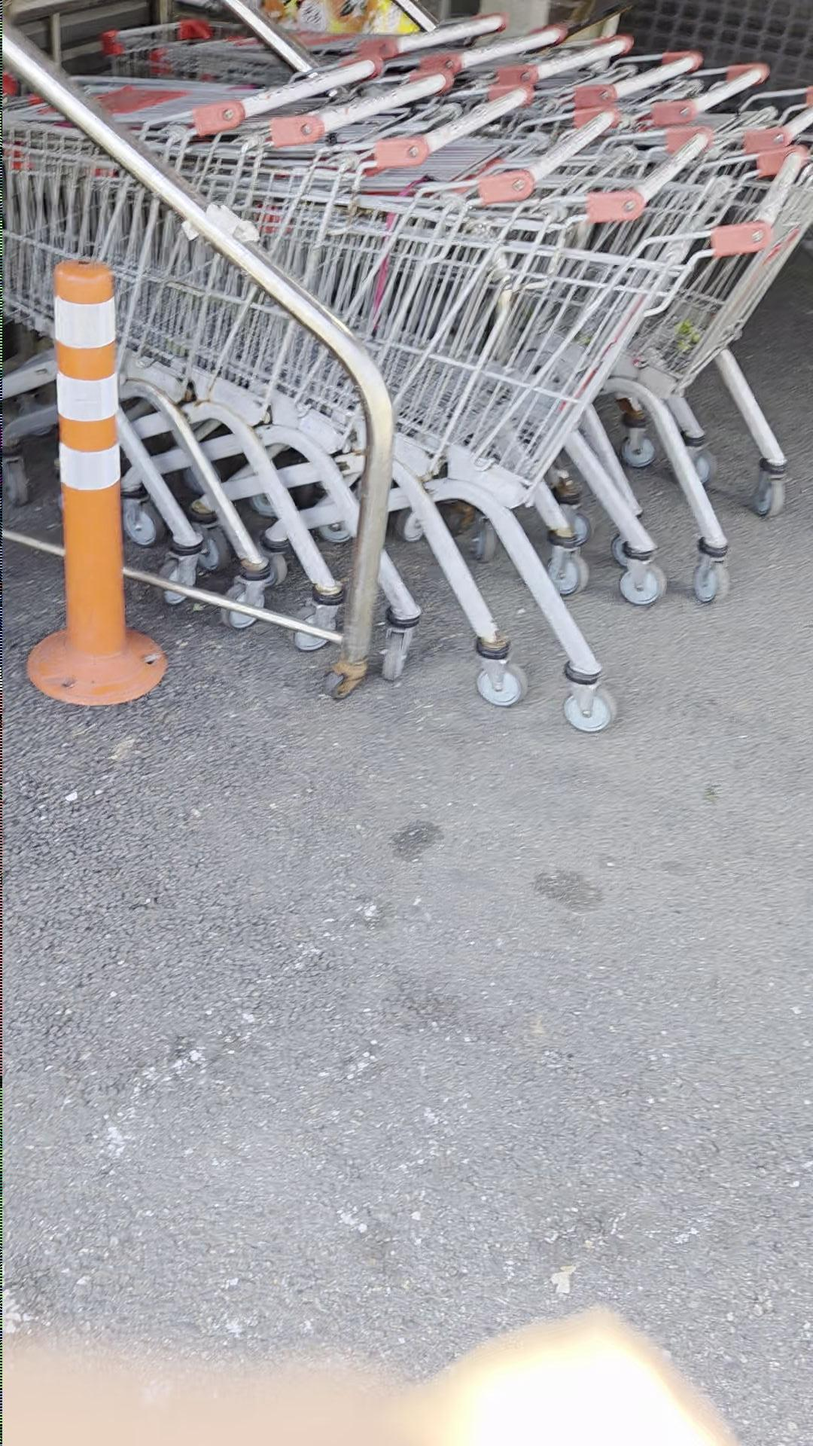combined_cart: (3, 0, 812, 747)
